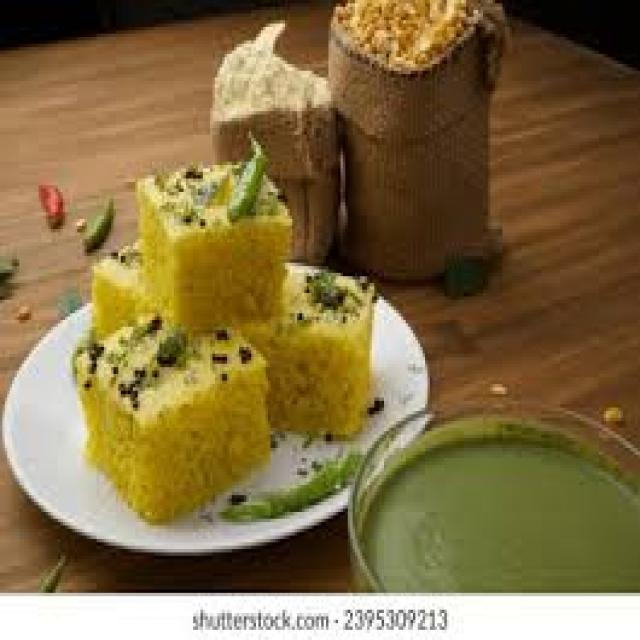DHOKLA: (84, 315, 269, 516), (142, 163, 296, 326), (244, 262, 376, 433), (92, 253, 144, 339)
